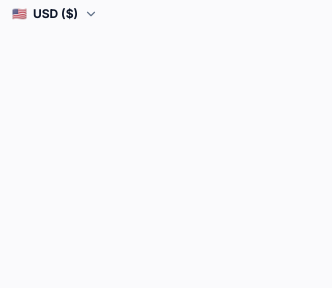
Test: CurrencySelect Component › excludes USD from the dropdown list when USD is currently selected
The image size is (332, 288).
Note: Click to open dropdown
Click the button "🇺🇸 USD ($)".
click(55, 14)  # box [12,6,98,22]
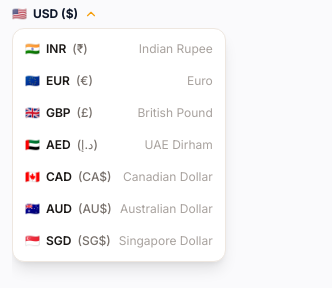
Expected: the option does not show "USD"
Now the option "🇮🇳 INR (₹) Indian Rupee" is shown, box [13,33,225,65]
